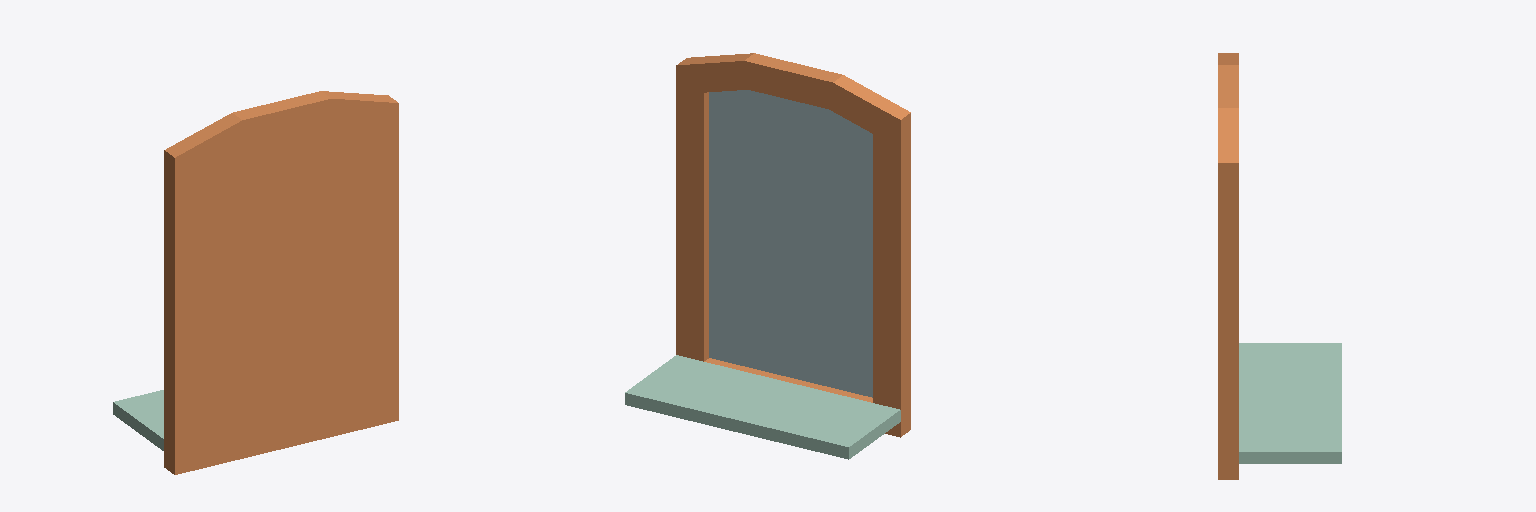
File: bathroomMirror.obj
The picture shows the model from 3 angles: view 1: azimuth 30°, elevation 25°; view 2: azimuth 150°, elevation 25°; view 3: azimuth 270°, elevation 25°; orthographic projection.
Visible parts, largest first — view 1: bathroomMirror; view 2: bathroomMirror; view 3: bathroomMirror.
Part boxes in pixels (left/top/right/bottom): bathroomMirror: left=113, top=91, right=398, bottom=474; bathroomMirror: left=625, top=53, right=910, bottom=459; bathroomMirror: left=1218, top=53, right=1341, bottom=479.
Bounding box in the file's own units: 0.3013 × 0.4346 × 0.1444.